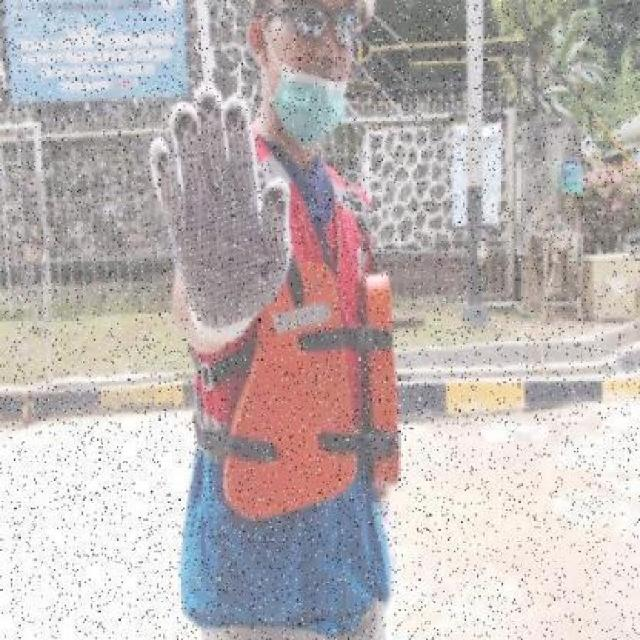Gloves: (141, 74, 296, 343)
Mask: (271, 59, 352, 153)
Protective Glasses: (270, 0, 361, 52)
Vest: (220, 259, 405, 515)
